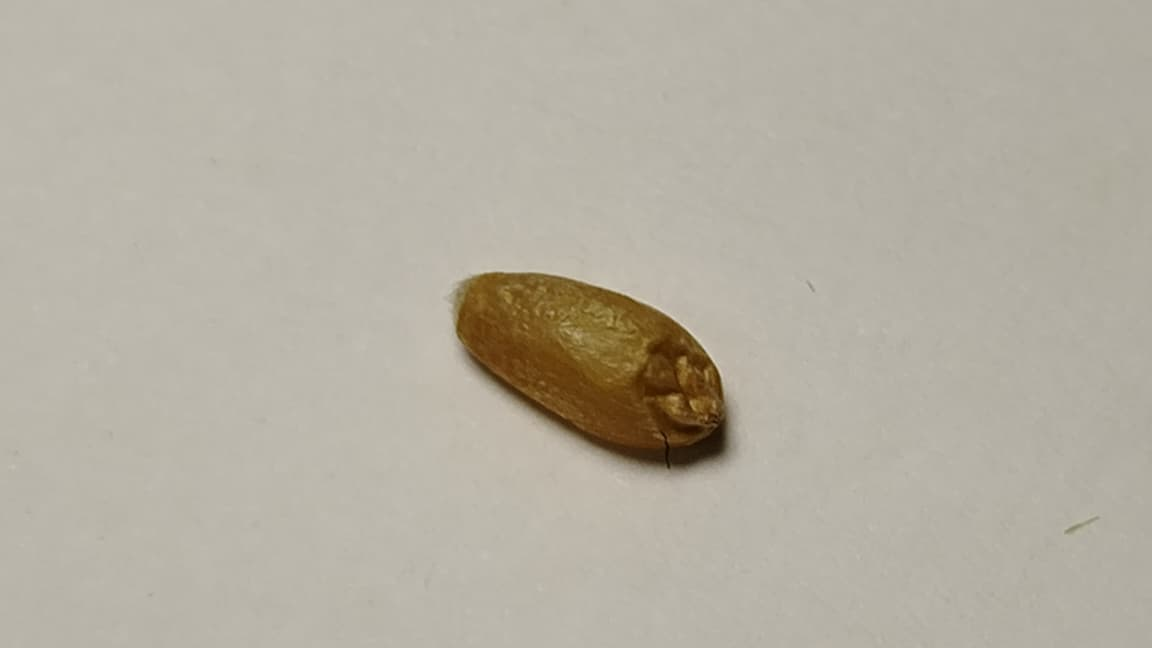healthy: (456, 272, 723, 447)
